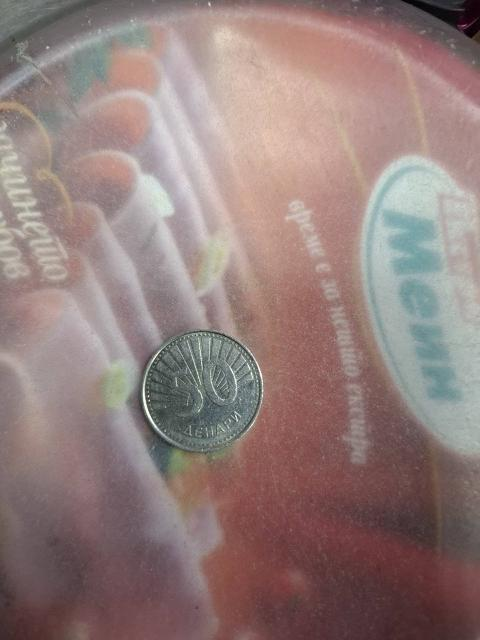50_coin: (142, 324, 269, 453)
